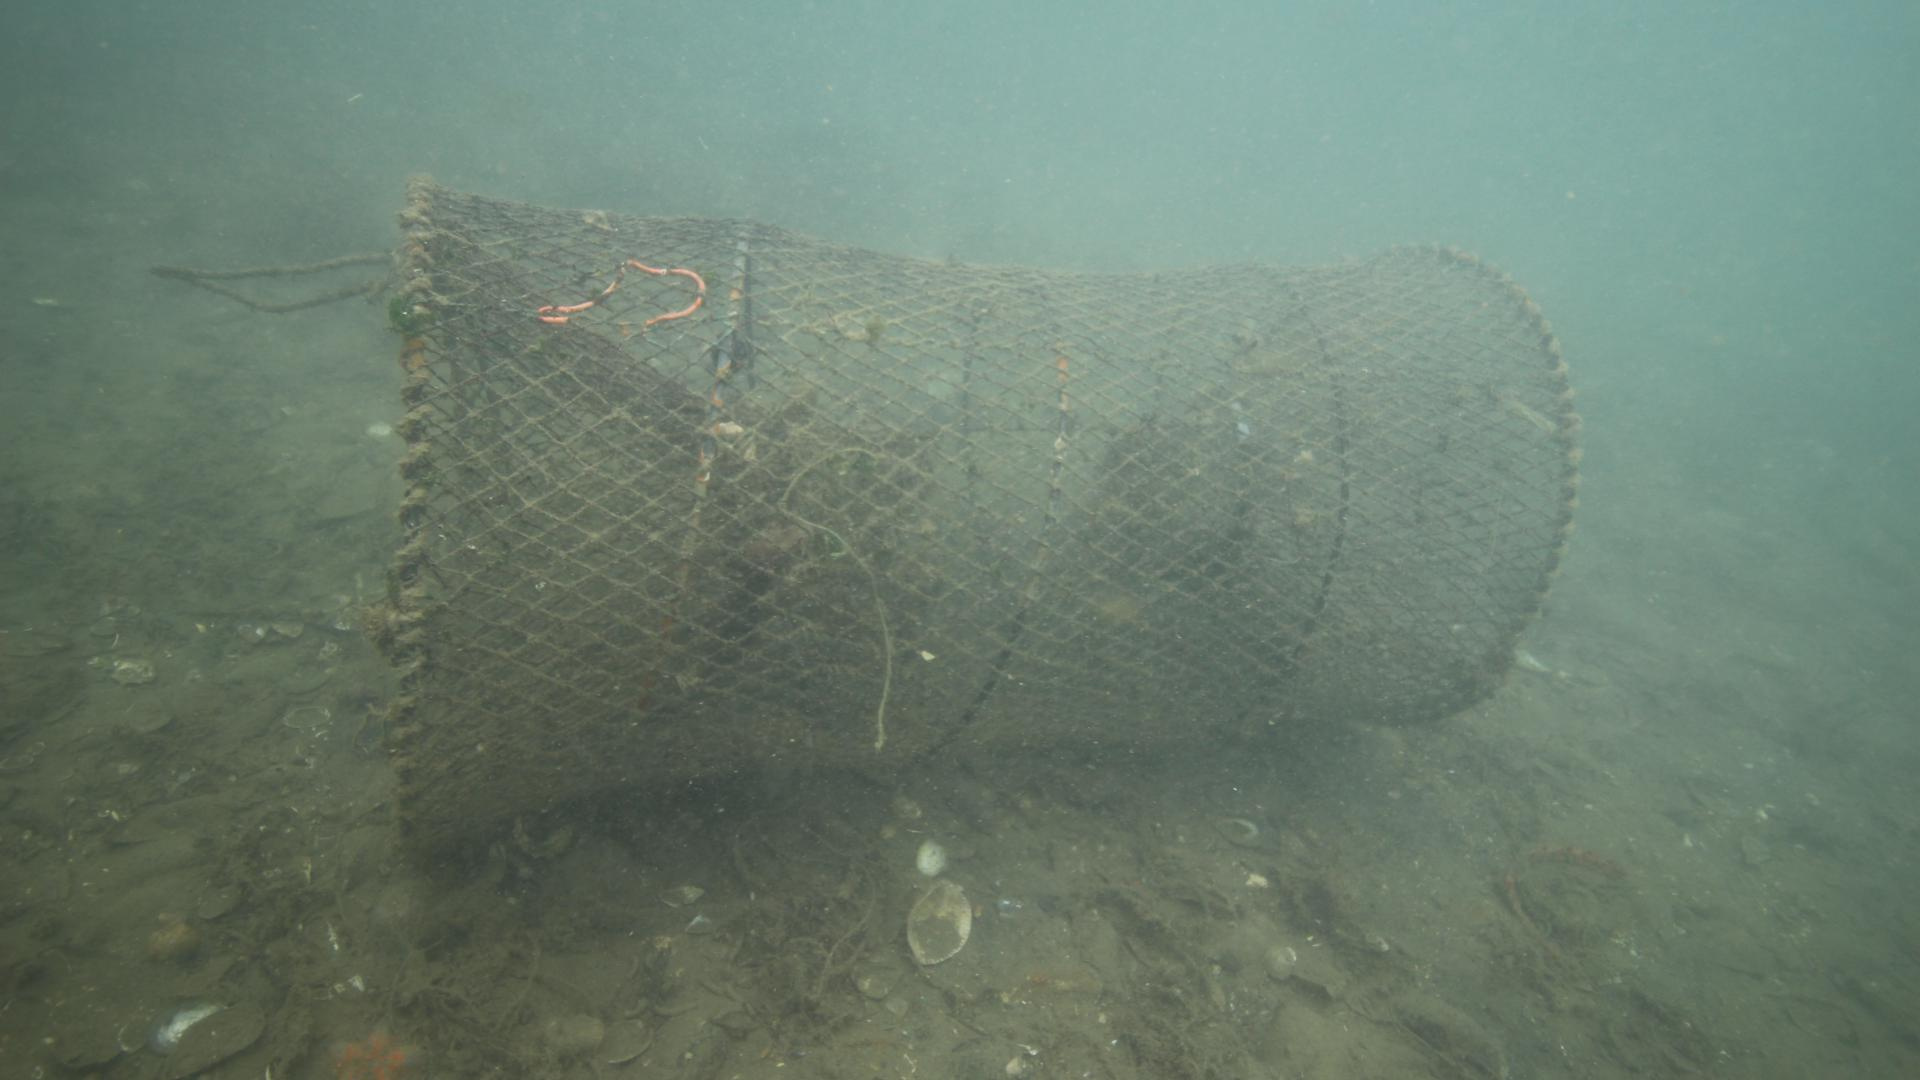bundle of ropes: (146, 249, 400, 313)
spring fish trap: (392, 171, 1582, 857)
